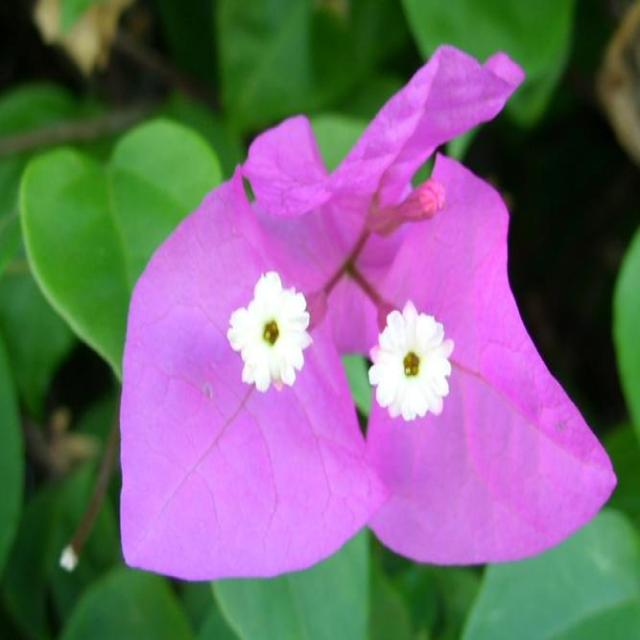bougainvillea: (89, 6, 632, 640)
